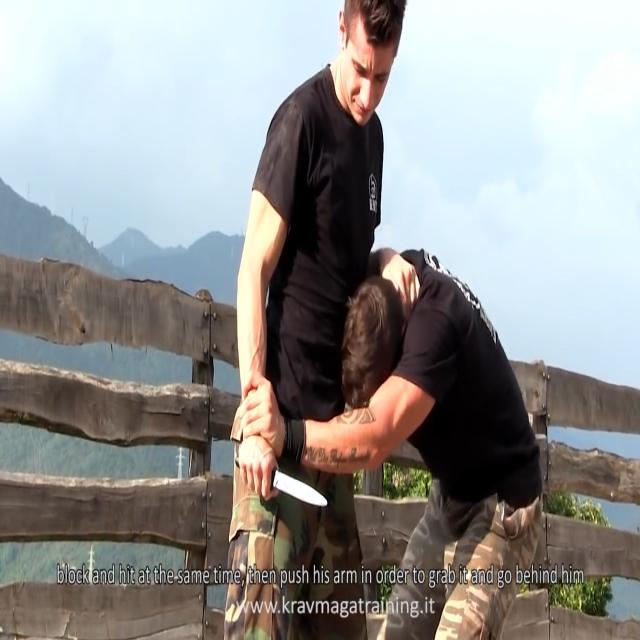knife: (270, 464, 333, 515)
